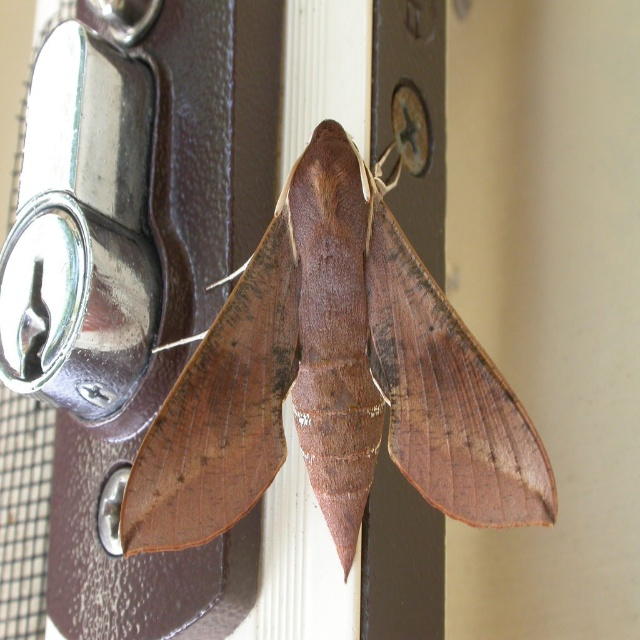Moths and butterflies: (122, 117, 560, 591)
